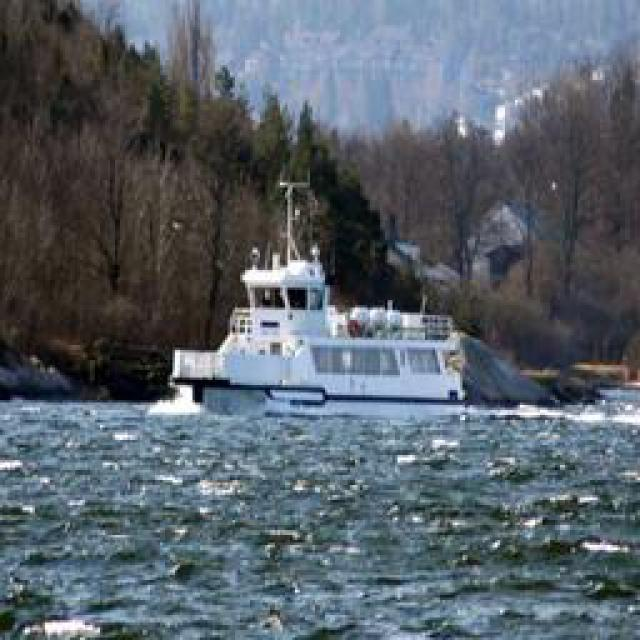Ship: (175, 240, 468, 415)
